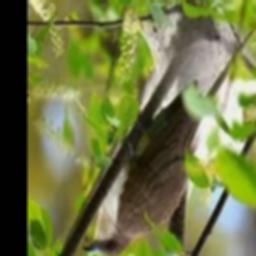Cuckoo: (82, 29, 254, 256)
